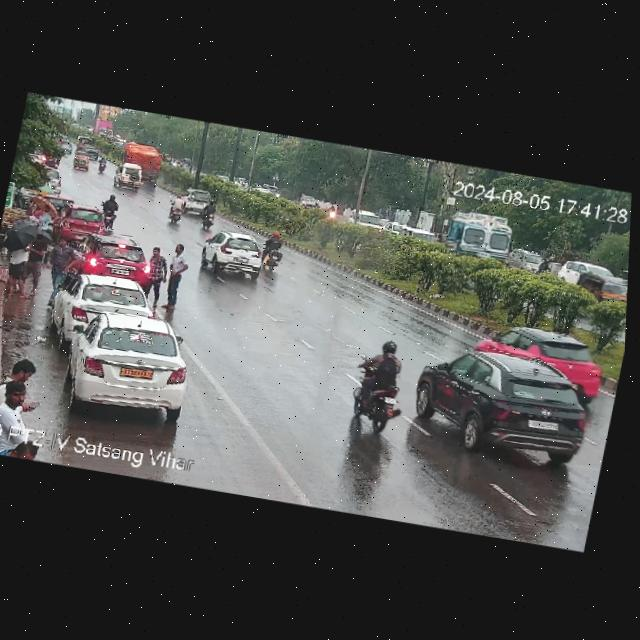car: (395, 338, 599, 471), (54, 306, 199, 423), (469, 317, 614, 399), (52, 267, 159, 346), (73, 232, 161, 287), (199, 227, 270, 280), (569, 269, 628, 310), (54, 201, 109, 242), (558, 257, 592, 285), (40, 167, 66, 193), (47, 193, 74, 213), (70, 151, 94, 173), (58, 140, 75, 153), (87, 147, 100, 160)
motorcycle: (339, 336, 414, 441), (258, 231, 293, 273), (95, 193, 127, 230), (165, 194, 191, 227), (198, 202, 222, 230), (96, 155, 109, 174)
person: (39, 232, 75, 307), (138, 245, 172, 316), (0, 231, 37, 296), (19, 226, 51, 299), (159, 244, 190, 316), (0, 350, 40, 399), (0, 380, 44, 424), (38, 204, 55, 229)
truck: (443, 209, 523, 270), (119, 141, 167, 180)
